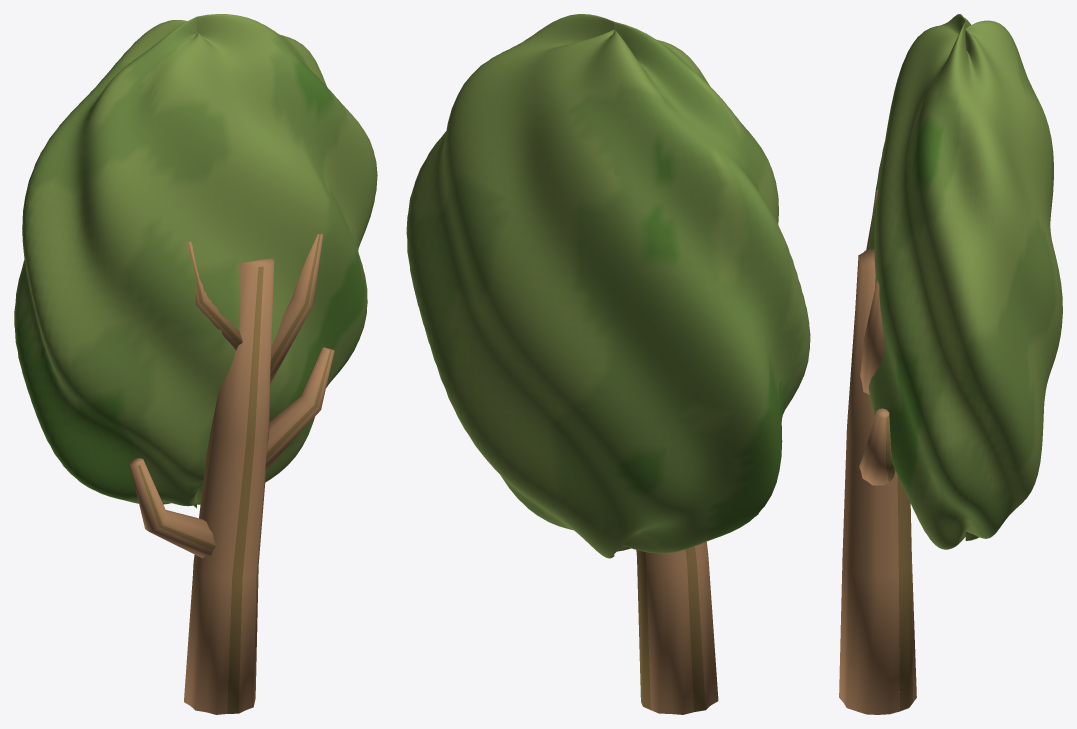
Rendered from 05_g7742_tall_tree.glb.
3 renders of one model, left to right at view 1: azimuth 30°, elevation 25°; view 2: azimuth 150°, elevation 25°; view 3: azimuth 270°, elevation 25°, orthographic. The views are drawn at different scales.
Visible parts, largest first — view 1: Tall lobed broadleaf crown, Tall warm trunk, Spreading broadleaf branch, Spreading broadleaf branch.001, Spreading broadleaf branch.002, Spreading broadleaf branch.003; view 2: Tall lobed broadleaf crown, Tall warm trunk; view 3: Tall lobed broadleaf crown, Tall warm trunk, Spreading broadleaf branch.001, Spreading broadleaf branch.002.
Part boxes in pixels (x1,y1,x2,y2): Tall lobed broadleaf crown: [14, 14, 377, 508]; Tall warm trunk: [184, 258, 274, 714]; Spreading broadleaf branch: [129, 458, 215, 558]; Spreading broadleaf branch.001: [265, 347, 334, 470]; Spreading broadleaf branch.002: [270, 234, 323, 383]; Spreading broadleaf branch.003: [186, 241, 242, 350]; Tall lobed broadleaf crown: [406, 14, 810, 558]; Tall warm trunk: [636, 541, 718, 714]; Tall lobed broadleaf crown: [868, 14, 1062, 549]; Tall warm trunk: [839, 249, 916, 714]; Spreading broadleaf branch.001: [859, 408, 895, 485]; Spreading broadleaf branch.002: [860, 280, 884, 394].
Bounding box in the file's own units: 3.89 × 6.85 × 2.02.
